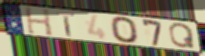4: (86, 14, 109, 41)
7: (141, 18, 163, 47)
H: (23, 6, 55, 37)
O: (110, 16, 141, 45)
Q: (168, 22, 197, 50)
T: (56, 11, 77, 37)
